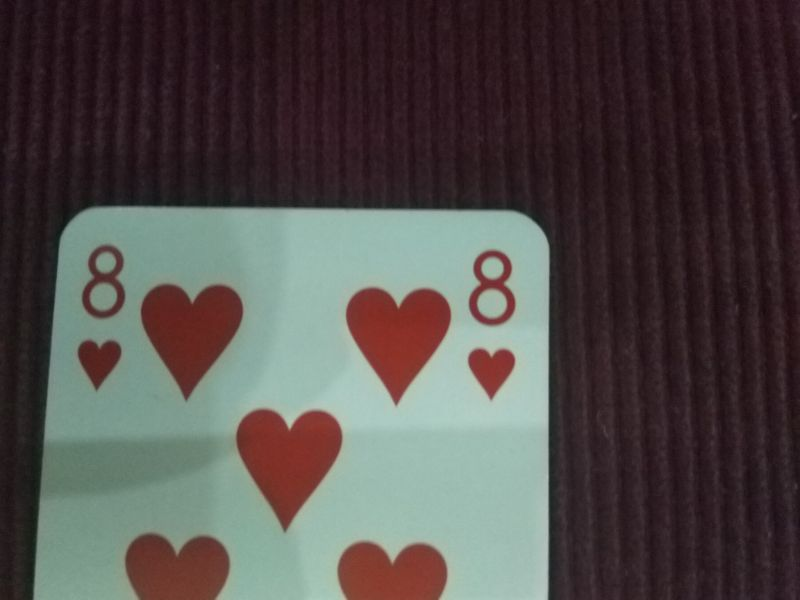8h: (69, 243, 134, 392), (460, 247, 520, 404)
